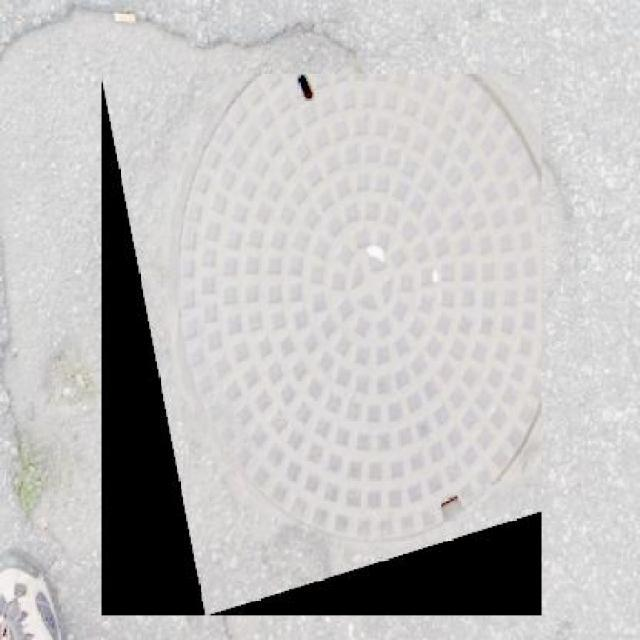Manhole: (101, 74, 542, 616)
